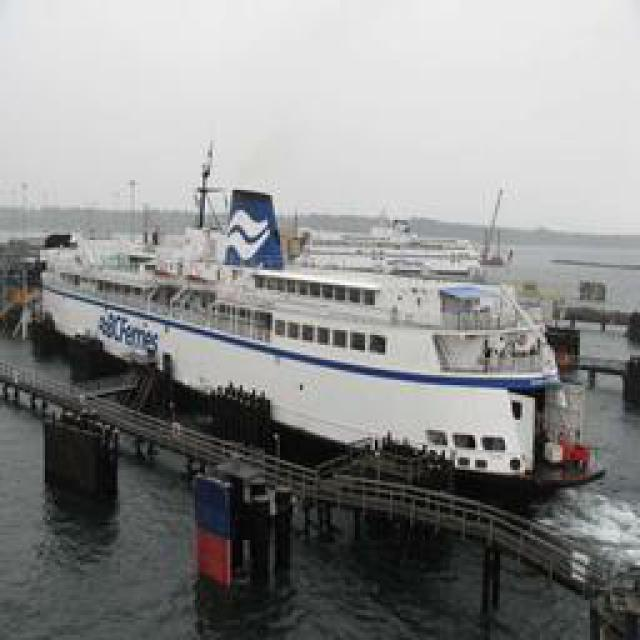Ship: (21, 188, 608, 489)
